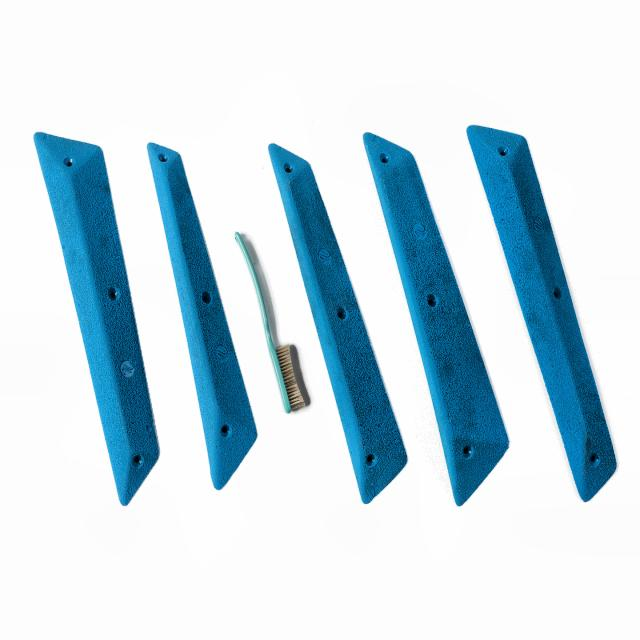Hold: (238, 101, 429, 531), (446, 121, 634, 534), (352, 118, 518, 546), (24, 131, 162, 511), (143, 141, 269, 496)
